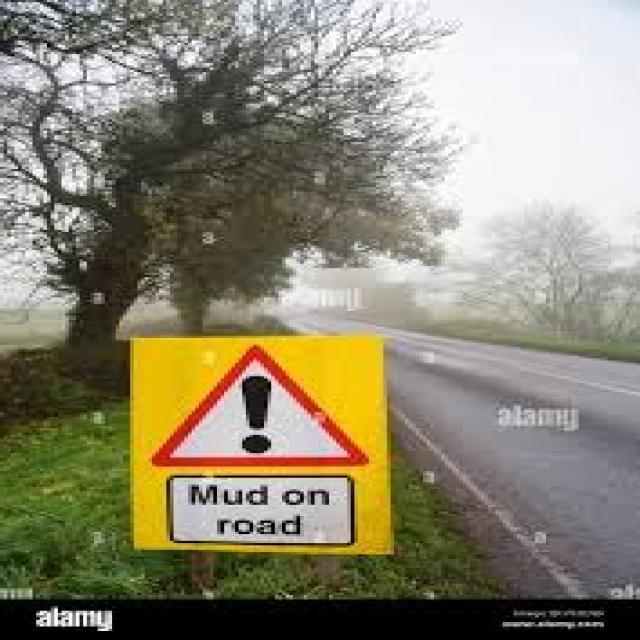warning: (138, 340, 361, 467)
